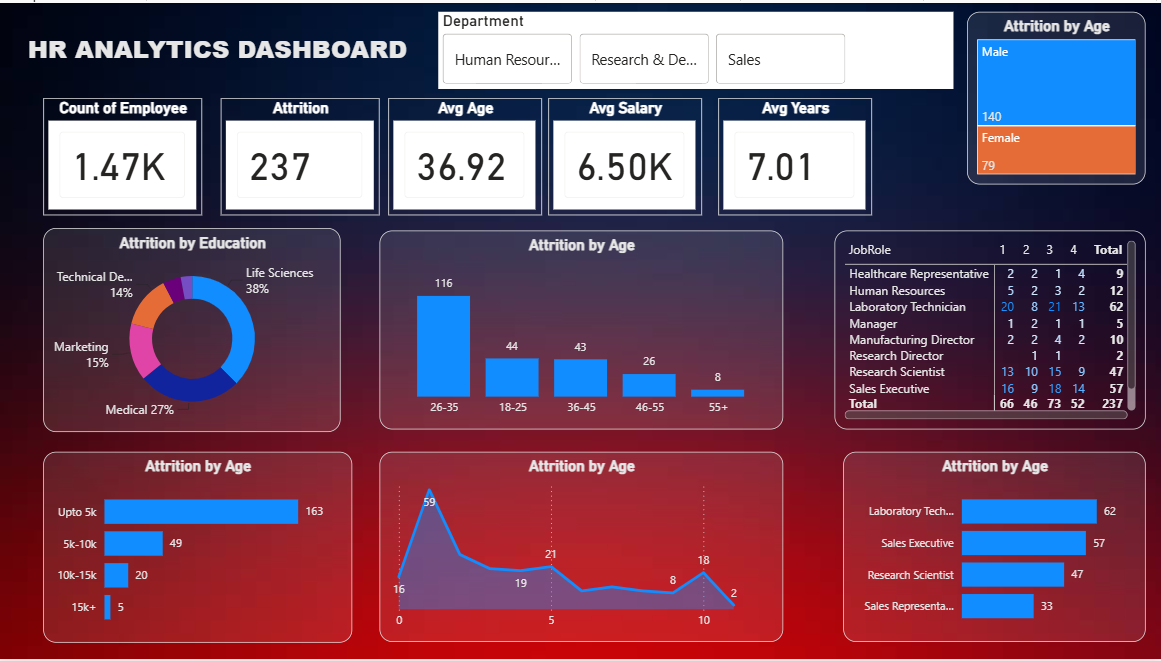

The dashboard page shown, as its layout file describes it:
{"tool":"powerbi","page":{"name":"Page 1","canvas":[1280,720],"ordinal":0},"visuals":[{"type":"cardVisual","title":"Count of Employee","fields":{"Data":["CountNonNull(HR_Analytics.EmpID)"]},"box":[50.8,104.3,174.3,129],"z":0},{"type":"cardVisual","title":"Attrition","fields":{"Data":["CountNonNull(HR_Analytics.Attrition Count)"]},"box":[245.6,104.3,174.3,129],"z":1000},{"type":"cardVisual","title":"Avg Age","fields":{"Data":["Avg(HR_Analytics.Age)"]},"box":[429.5,104.3,168.8,129],"z":2000},{"type":"cardVisual","title":"Avg Salary","fields":{"Data":["Avg(HR_Analytics.MonthlyIncome)"]},"box":[605.1,104.3,168.8,129],"z":3000},{"type":"cardVisual","title":"Avg Years","fields":{"Data":["Avg(HR_Analytics.YearsAtCompany)"]},"box":[791.8,104.3,168.8,129],"z":4000},{"type":"donutChart","title":"Attrition by Education","fields":{"Category":["HR_Analytics.EducationField"],"Y":["CountNonNull(HR_Analytics.Attrition Count)"]},"box":[50.8,247,326.6,223.7],"z":5000},{"type":"columnChart","title":"Attrition by Age","fields":{"Category":["HR_Analytics.AgeGroup"],"Y":["CountNonNull(HR_Analytics.Attrition Count)"]},"box":[419.9,249.7,443.2,218.2],"z":6000},{"type":"pivotTable","fields":{"Rows":["HR_Analytics.JobRole"],"Columns":["HR_Analytics.JobSatisfaction"],"Values":["CountNonNull(HR_Analytics.Attrition Count)"]},"box":[919.4,249.7,341.7,218.2],"z":7000},{"type":"barChart","title":"Attrition by Age","fields":{"Category":["HR_Analytics.SalarySlab"],"Y":["CountNonNull(HR_Analytics.Attrition Count)"]},"box":[50.8,492.6,338.9,209.9],"z":8000},{"type":"barChart","title":"Attrition by Age","fields":{"Y":["CountNonNull(HR_Analytics.Attrition Count)"],"Category":["HR_Analytics.JobRole"]},"box":[929,492.6,332.1,208.6],"z":9000},{"type":"areaChart","title":"Attrition by Age","fields":{"Category":["HR_Analytics.YearsAtCompany"],"Y":["CountNonNull(HR_Analytics.Attrition Count)"]},"box":[419.9,492.6,443.2,208.6],"z":10000},{"type":"treemap","title":"Attrition by Age","fields":{"Group":["HR_Analytics.Gender"],"Values":["CountNonNull(HR_Analytics.Attrition Count)"]},"box":[1064.8,9.6,196.2,189.4],"z":11000},{"type":"advancedSlicerVisual","fields":{"Values":["HR_Analytics.Department"]},"box":[484.4,9.6,565.4,85.1],"z":12000},{"type":"textbox","box":[28.8,26.1,469.3,56.3],"z":13000}]}

Visuals, with their boxes in screenshot pixels (x1, y1, x2, y2), scaled from the page's 1280x720 canvas onto the 1161x661 screenshot:
"Count of Employee" cardVisual: <box>46,96,204,214</box>
"Attrition" cardVisual: <box>223,96,381,214</box>
"Avg Age" cardVisual: <box>390,96,543,214</box>
"Avg Salary" cardVisual: <box>549,96,702,214</box>
"Avg Years" cardVisual: <box>718,96,871,214</box>
"Attrition by Education" donutChart: <box>46,227,342,432</box>
"Attrition by Age" columnChart: <box>381,229,783,430</box>
pivotTable - HR_Analytics.JobRole x HR_Analytics.JobSatisfaction: <box>834,229,1144,430</box>
"Attrition by Age" barChart: <box>46,452,353,645</box>
"Attrition by Age" barChart: <box>843,452,1144,644</box>
"Attrition by Age" areaChart: <box>381,452,783,644</box>
"Attrition by Age" treemap: <box>966,9,1144,183</box>
advancedSlicerVisual - HR_Analytics.Department: <box>439,9,952,87</box>
textbox: <box>26,24,452,76</box>
